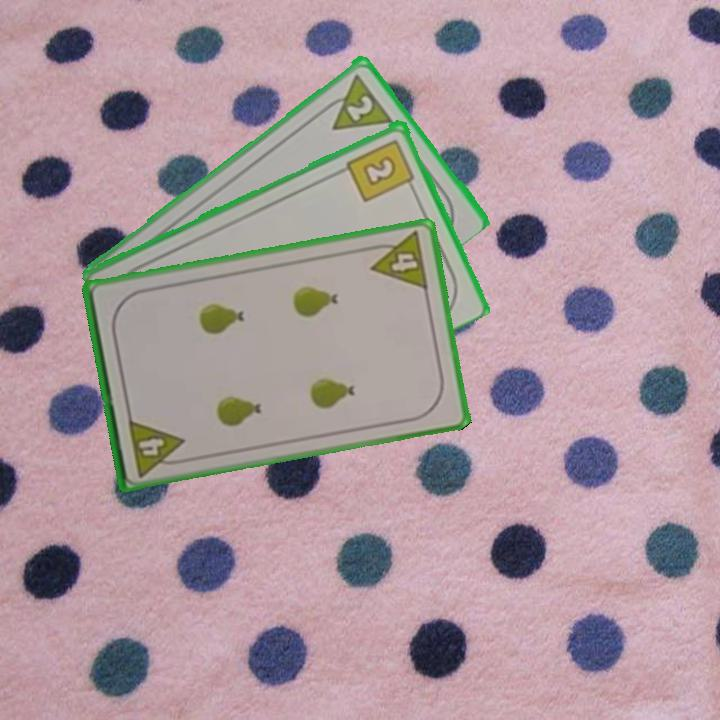2b: (343, 135, 418, 205)
2p: (343, 90, 376, 124)
4p: (364, 228, 431, 293), (124, 415, 189, 480)
